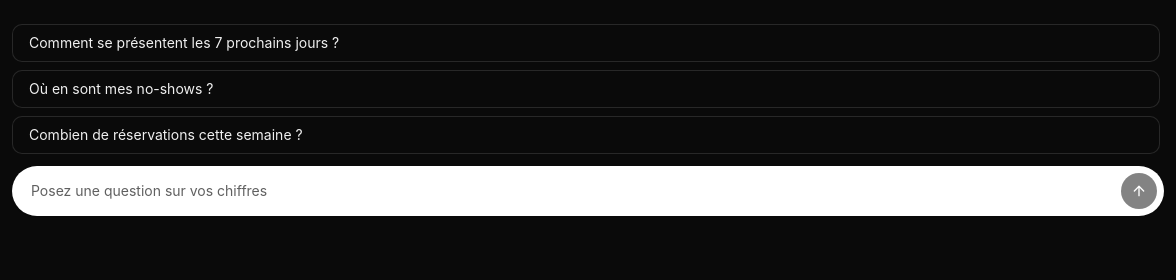
Test: CompanionPanel › affiche le message d’erreur de l’API, puis Réessayer renvoie la même question
The width and height of the screenshot is (1176, 280).
Click the button "Comment se présentent les 7 prochains jours ?" at (184, 42), box [12,24,1160,62]
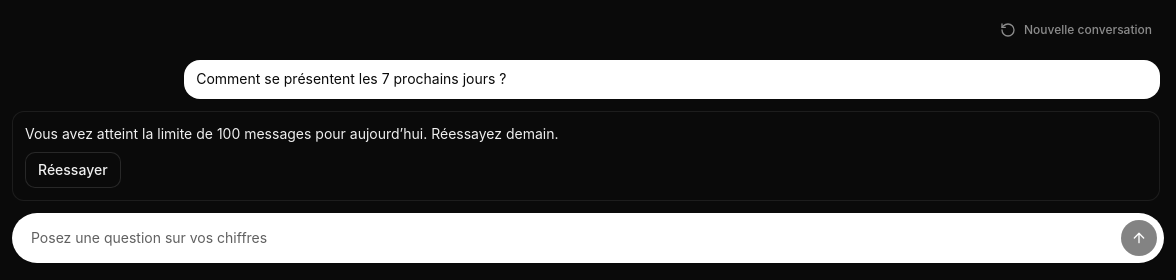
Now the message shows "Vous avez atteint la limite de 100 messages pour aujourd’hui.", box [25,125,558,142]
Click the button "Réessayer" at (73, 170), box [25,152,121,188]
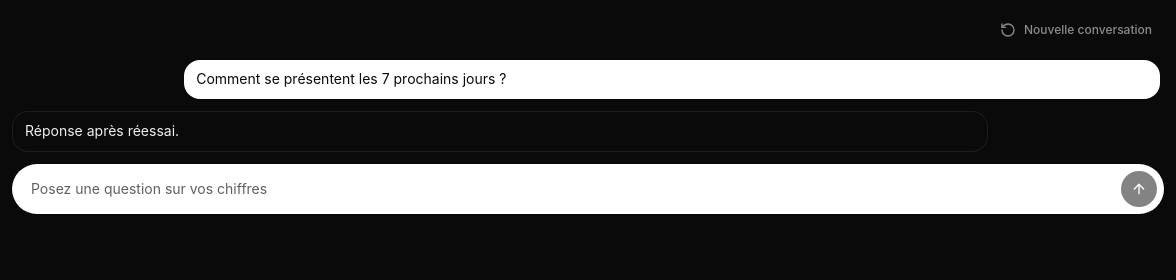
Now the text "Réponse après réessai." is shown, box [25,122,179,139]
